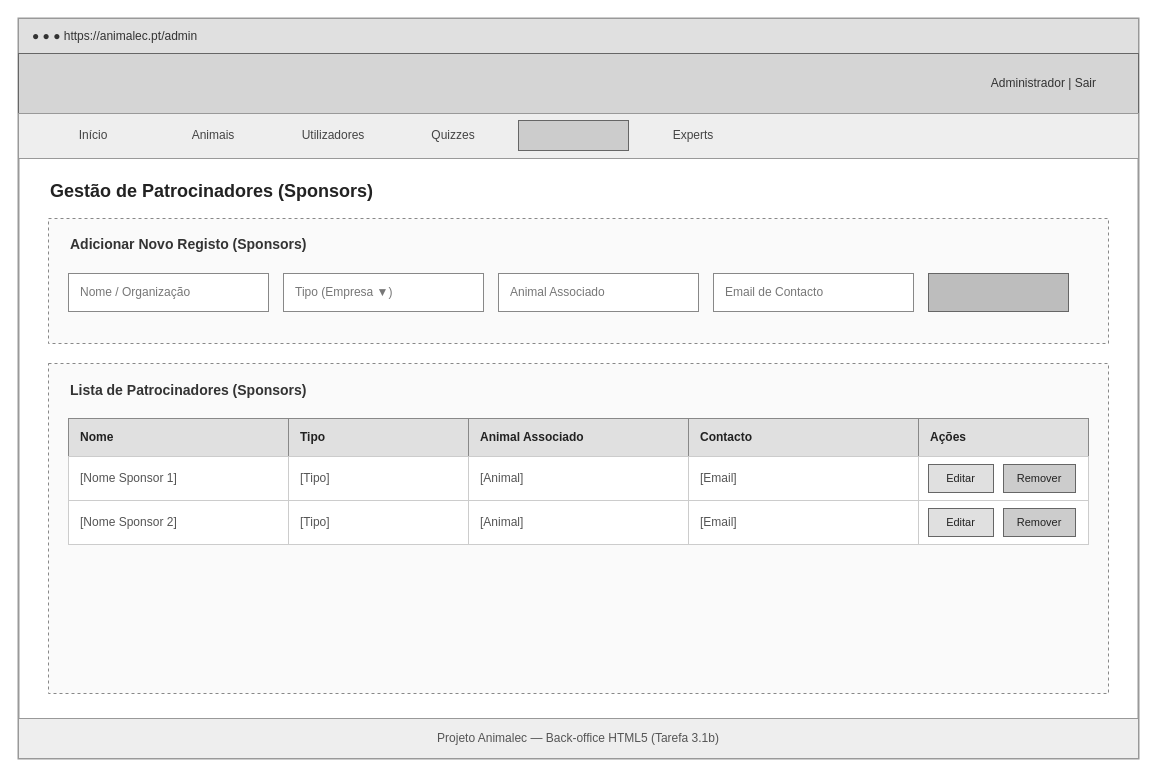
This 1156x776 diagram has some shape labels left out. The box of each missing label's shape, as (x1, y1, x2, y2) in pixels:
+ Adicionar: (928, 272, 1068, 312)
Animalec — Back-office de Administração: (18, 52, 1138, 114)
Sponsors: (518, 120, 628, 150)
